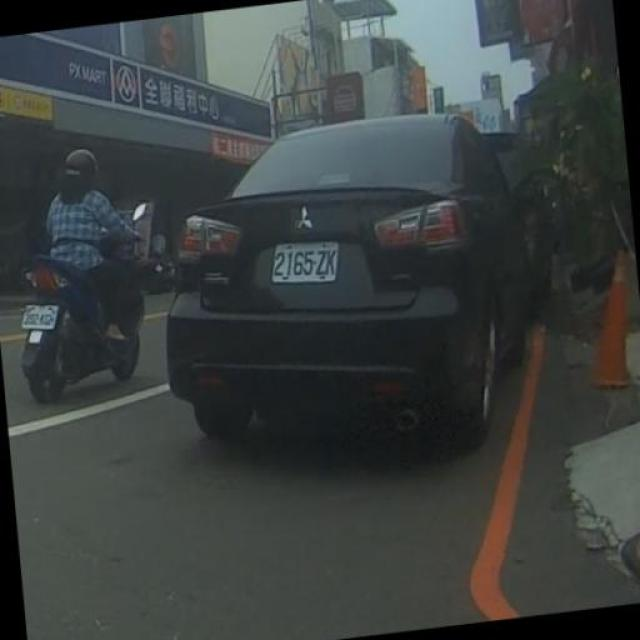Legalparking: (115, 68, 558, 514)
